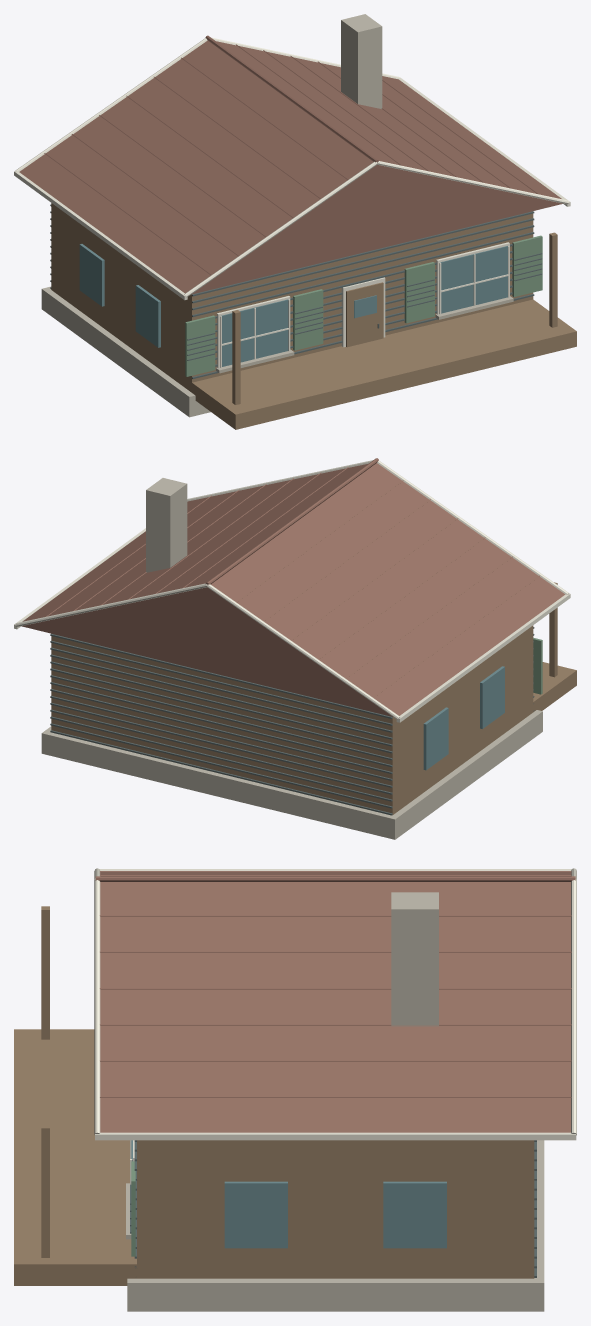
The picture shows the model from 3 angles, top to bottom: view 1: azimuth 30°, elevation 25°; view 2: azimuth 150°, elevation 25°; view 3: azimuth 270°, elevation 25°; orthographic projection. The views are drawn at different scales.
Bounding box in the file's own units: 15.83 × 9.9 × 14.18.
